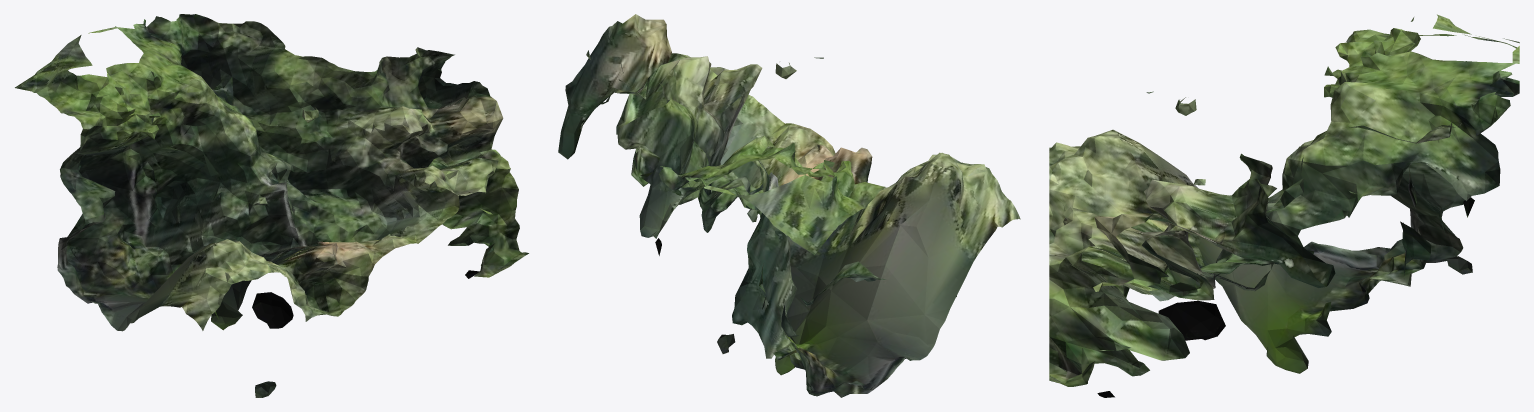
3 renders of one model, left to right at view 1: azimuth 30°, elevation 25°; view 2: azimuth 150°, elevation 25°; view 3: azimuth 270°, elevation 25°, orthographic. The views are drawn at different scales.
Bounding box in the file's own units: 26.11 × 18.3 × 26.11.
5 materials, 5 textured.
